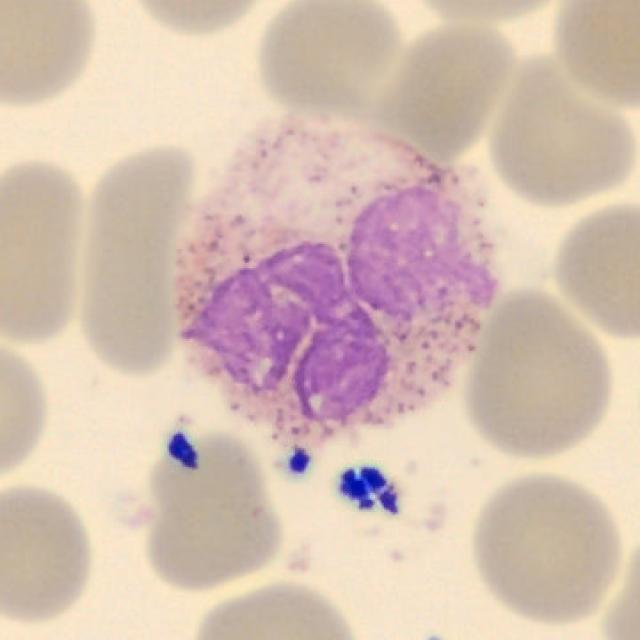Neutrofilo segmentado: (174, 112, 500, 445)
